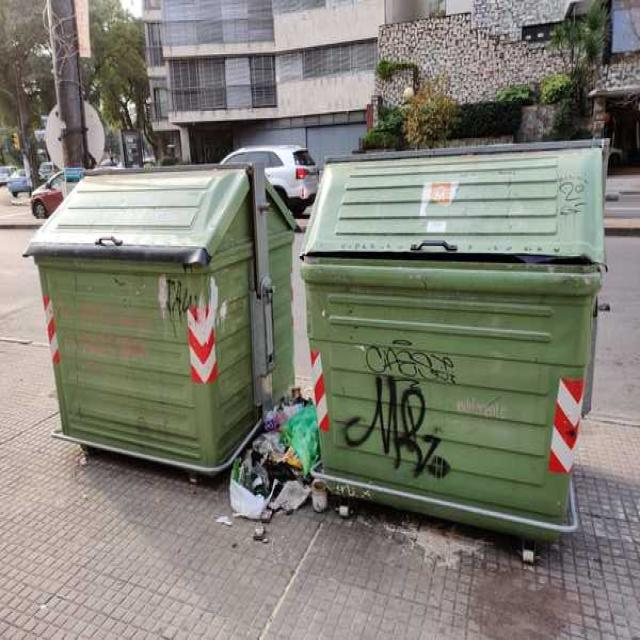garbage: (211, 385, 334, 551), (329, 499, 364, 529)
